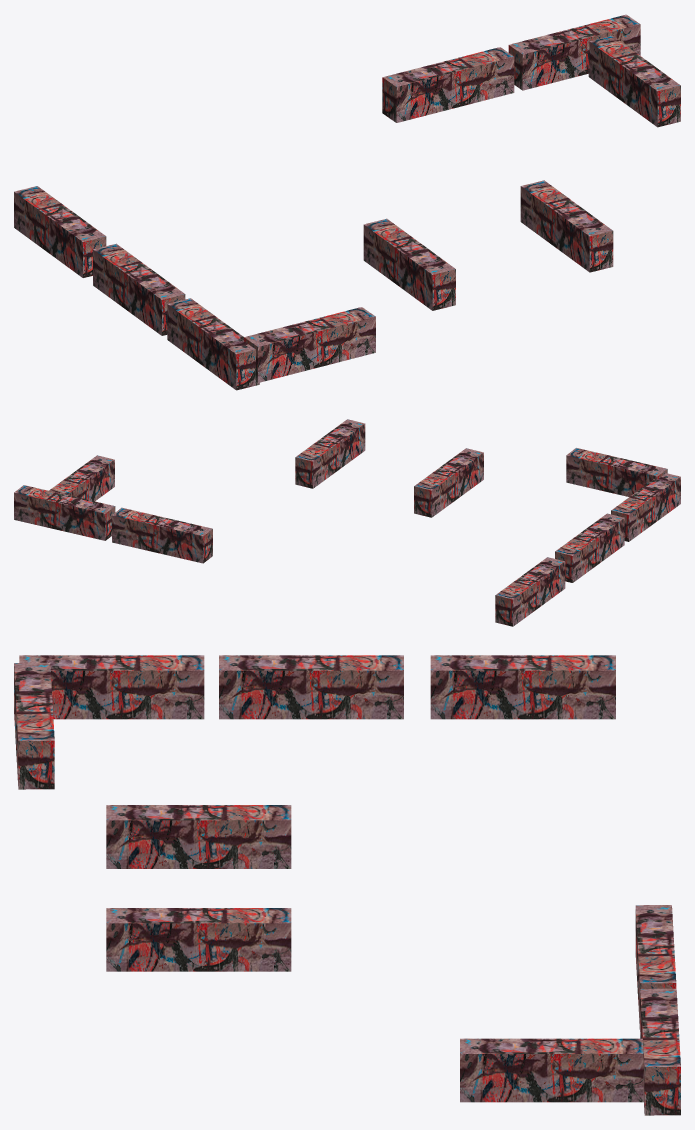
Rendered from decor3.obj.
3 renders of one model, top to bottom at view 1: azimuth 30°, elevation 25°; view 2: azimuth 150°, elevation 25°; view 3: azimuth 270°, elevation 25°, orthographic. The views are drawn at different scales.
Visible parts, largest first — view 1: Cube.037, Cube.034, Cube.038, Cube.036, Cube.035, Cube.039, Cube.040, Cube.042, Cube.041; view 2: Cube.037, Cube.038, Cube.034, Cube.042, Cube.036, Cube.035, Cube.041, Cube.040, Cube.039; view 3: Cube.042, Cube.041, Cube.039, Cube.035, Cube.036, Cube.040, Cube.034, Cube.038, Cube.037.
Part boxes in pixels (x1,y1,x2,y2): Cube.037: (382, 47, 514, 122); Cube.034: (244, 307, 375, 382); Cube.038: (508, 14, 640, 90); Cube.036: (520, 180, 613, 272); Cube.035: (363, 218, 455, 310); Cube.039: (588, 35, 680, 127); Cube.040: (167, 298, 259, 390); Cube.042: (14, 186, 106, 277); Cube.041: (93, 243, 185, 335); Cube.037: (112, 507, 212, 563); Cube.038: (14, 485, 115, 540); Cube.034: (566, 448, 667, 496); Cube.042: (495, 557, 565, 626); Cube.036: (295, 419, 365, 488); Cube.035: (414, 448, 483, 517); Cube.041: (555, 513, 624, 582); Cube.040: (611, 473, 680, 541); Cube.039: (49, 455, 114, 501); Cube.042: (430, 655, 615, 719); Cube.041: (219, 655, 403, 719); Cube.039: (460, 1038, 643, 1102); Cube.035: (106, 805, 291, 868); Cube.036: (106, 908, 291, 971); Cube.040: (19, 655, 204, 719); Cube.034: (14, 662, 54, 789); Cube.038: (640, 988, 680, 1115); Cube.037: (635, 905, 676, 1031).
Bounding box in the file's own units: 40767 × 2454 × 27546.
1 material, 1 textured.
